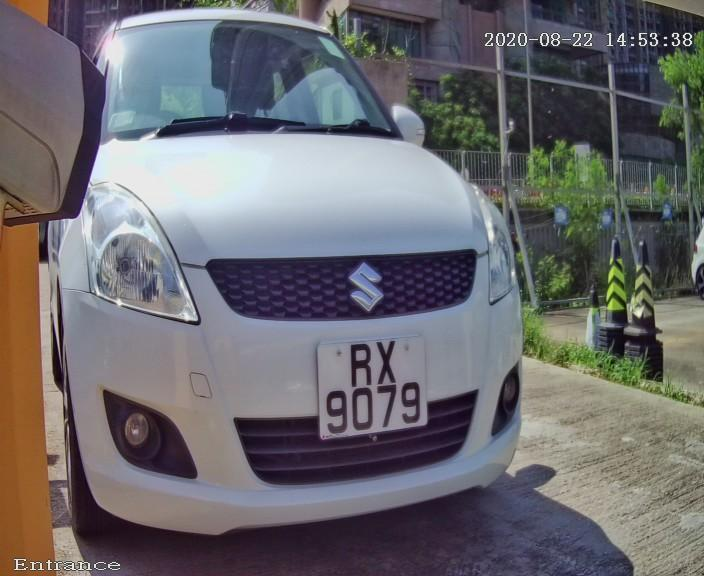Car: (16, 3, 566, 576)
License Plate: (309, 325, 437, 458)
